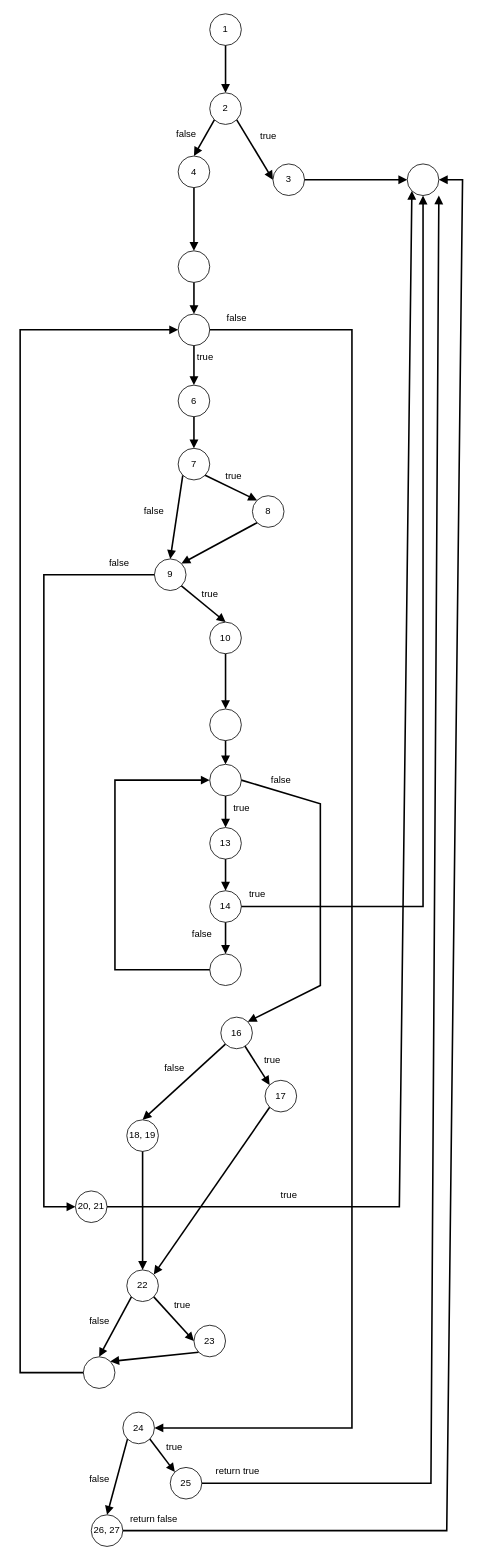
Some shapes in this 483 by 1560 pixel diagram are drawn without their labels. The box of each missing label's shape, as (x1, y1, x2, y2) in pixels:
12.1 init: (209, 708, 241, 741)
12.2 cond.: (209, 764, 241, 796)
12.3 j++: (209, 953, 241, 986)
5.1 init: (177, 250, 210, 282)
5.2 cond.: (177, 313, 210, 346)
5.3 i++: (83, 1356, 115, 1388)
exit: (406, 163, 439, 196)
